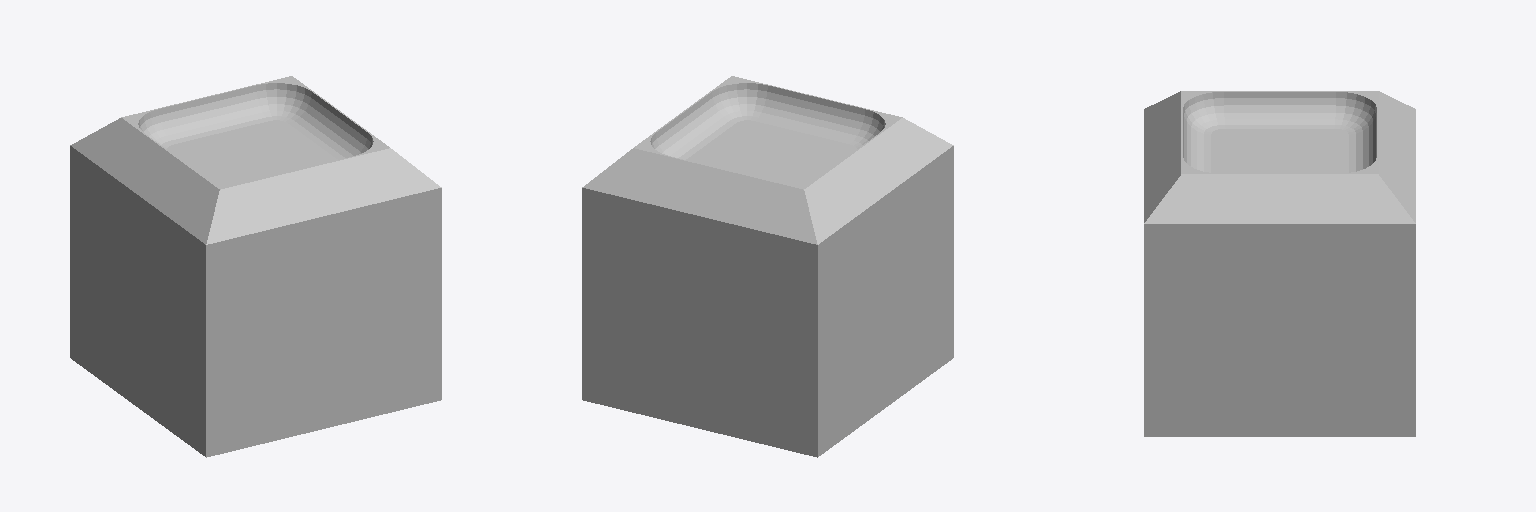
The model's file is BlackBlock.obj.
The picture shows the model from 3 angles: view 1: azimuth 30°, elevation 25°; view 2: azimuth 150°, elevation 25°; view 3: azimuth 270°, elevation 25°; orthographic projection.
Parts seen in each view (by area): view 1: Cube.002; view 2: Cube.002; view 3: Cube.002.
Part boxes in pixels (left/top/right/bottom): Cube.002: left=70, top=76, right=441, bottom=457; Cube.002: left=582, top=76, right=953, bottom=457; Cube.002: left=1144, top=91, right=1415, bottom=436.
Size of the model in its own units: 2 by 2 by 2.